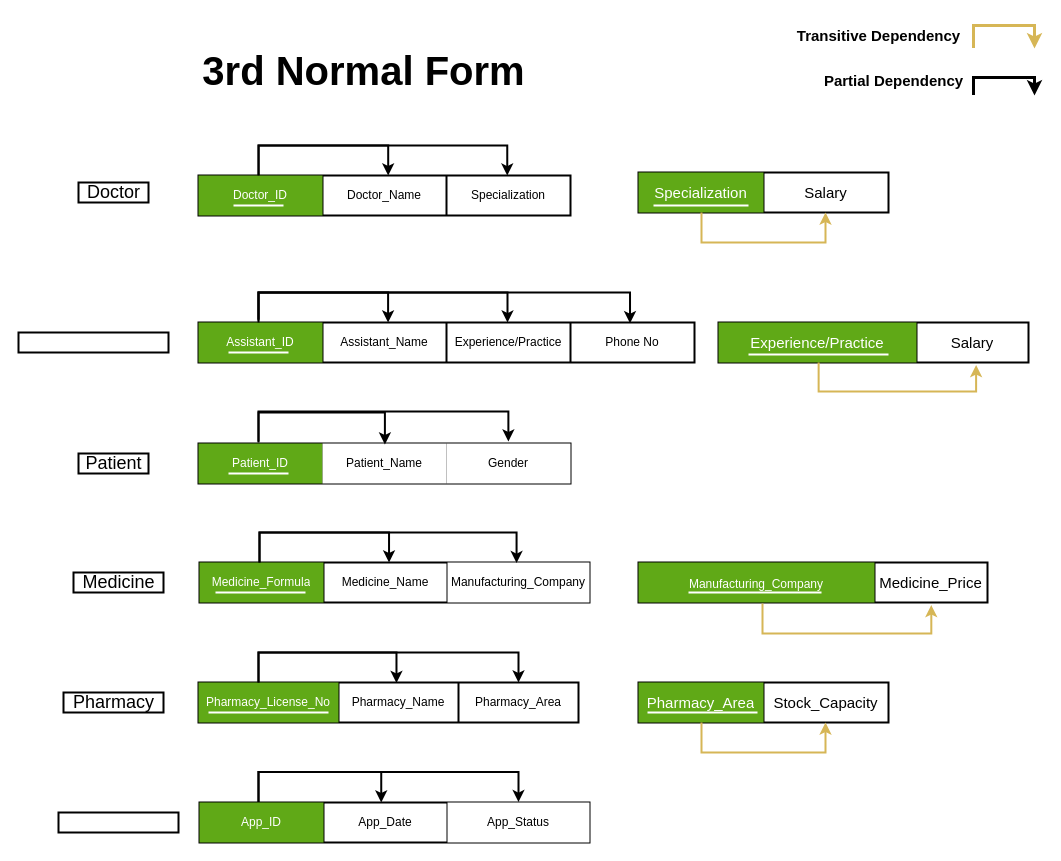
Some shapes in this 1061 by 861 pixel diagram are drawn without their labels. The shapes that lost their labels are listed below. From the top down, each one's centre as x and y in pixels, then its label:
At [93,342]: "Medical Assistant".
At [118,822]: "Appointment".
